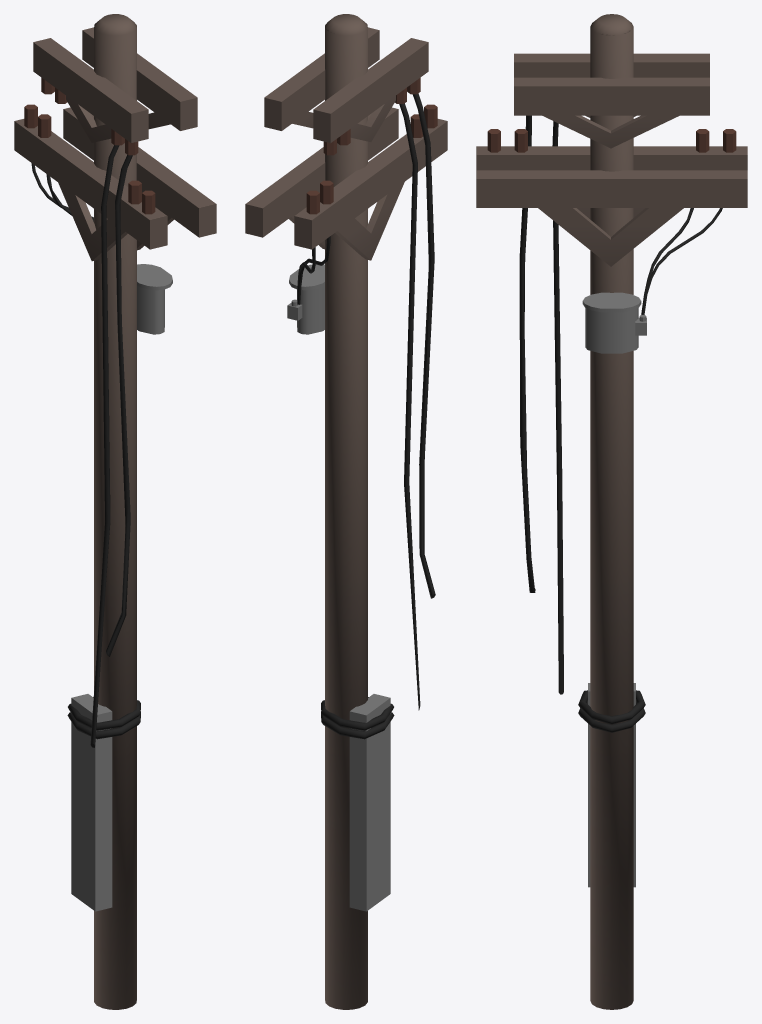
File: pole.glb
3 renders of one model, left to right at view 1: azimuth 30°, elevation 25°; view 2: azimuth 150°, elevation 25°; view 3: azimuth 270°, elevation 25°, orthographic.
Parts seen in each view (by area): view 1: Cylinder, Cube, Cube.001, Cube.002, BézierCurve.003, BézierCurve.002, Cylinder.003, Cylinder.001, NurbsCircle, Cylinder.004; view 2: Cylinder, Cube, Cube.001, Cube.002, BézierCurve.003, BézierCurve.002, Cylinder.003, NurbsCircle, Cylinder.001, Cylinder.004; view 3: Cylinder, Cube, Cube.001, Cylinder.003, BézierCurve.003, BézierCurve.002, NurbsCircle, Cylinder.001, Cube.002.
Boxes of the visible parts, x1=… form: Cylinder: x1=94, y1=14, x2=136, y2=1009; Cube: x1=14, y1=107, x2=216, y2=261; Cube.001: x1=33, y1=27, x2=197, y2=142; Cube.002: x1=71, y1=694, x2=112, y2=911; BézierCurve.003: x1=90, y1=145, x2=119, y2=747; BézierCurve.002: x1=106, y1=155, x2=132, y2=656; Cylinder.003: x1=137, y1=264, x2=172, y2=334; Cylinder.001: x1=24, y1=104, x2=155, y2=214; NurbsCircle: x1=67, y1=697, x2=140, y2=739; Cylinder.004: x1=41, y1=77, x2=138, y2=155; Cylinder: x1=325, y1=14, x2=367, y2=1009; Cube: x1=245, y1=107, x2=447, y2=260; Cube.001: x1=264, y1=27, x2=428, y2=142; Cube.002: x1=349, y1=694, x2=390, y2=911; BézierCurve.003: x1=399, y1=103, x2=420, y2=710; BézierCurve.002: x1=412, y1=93, x2=435, y2=598; Cylinder.003: x1=287, y1=264, x2=324, y2=334; NurbsCircle: x1=321, y1=697, x2=394, y2=739; Cylinder.001: x1=306, y1=104, x2=437, y2=214; Cylinder.004: x1=323, y1=77, x2=420, y2=155; Cylinder: x1=590, y1=14, x2=633, y2=1009; Cube: x1=476, y1=146, x2=747, y2=266; Cube.001: x1=514, y1=53, x2=709, y2=148; Cylinder.003: x1=582, y1=292, x2=646, y2=353; BézierCurve.003: x1=552, y1=121, x2=563, y2=694; BézierCurve.002: x1=519, y1=115, x2=535, y2=592; NurbsCircle: x1=578, y1=690, x2=645, y2=732; Cylinder.001: x1=487, y1=129, x2=736, y2=152; Cube.002: x1=588, y1=683, x2=635, y2=887.
Size of the model in its own units: 1.06 by 10 by 2.51.
Materials: 4 (1 with a texture image).
